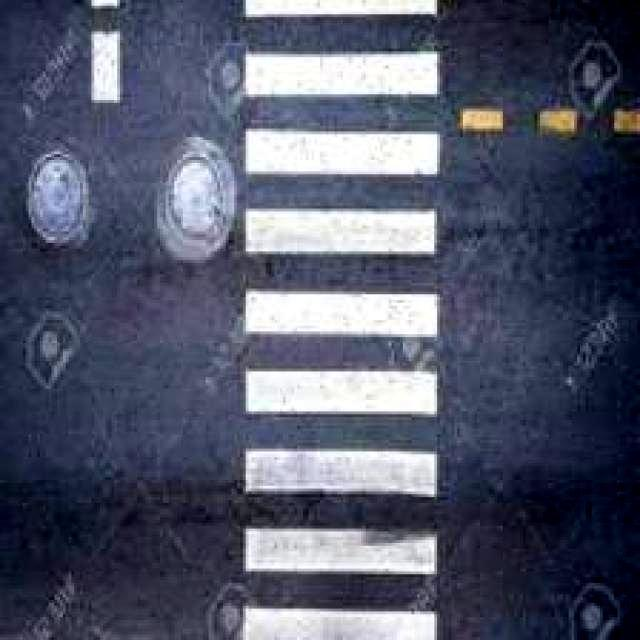crosswalk: (108, 2, 499, 638)
